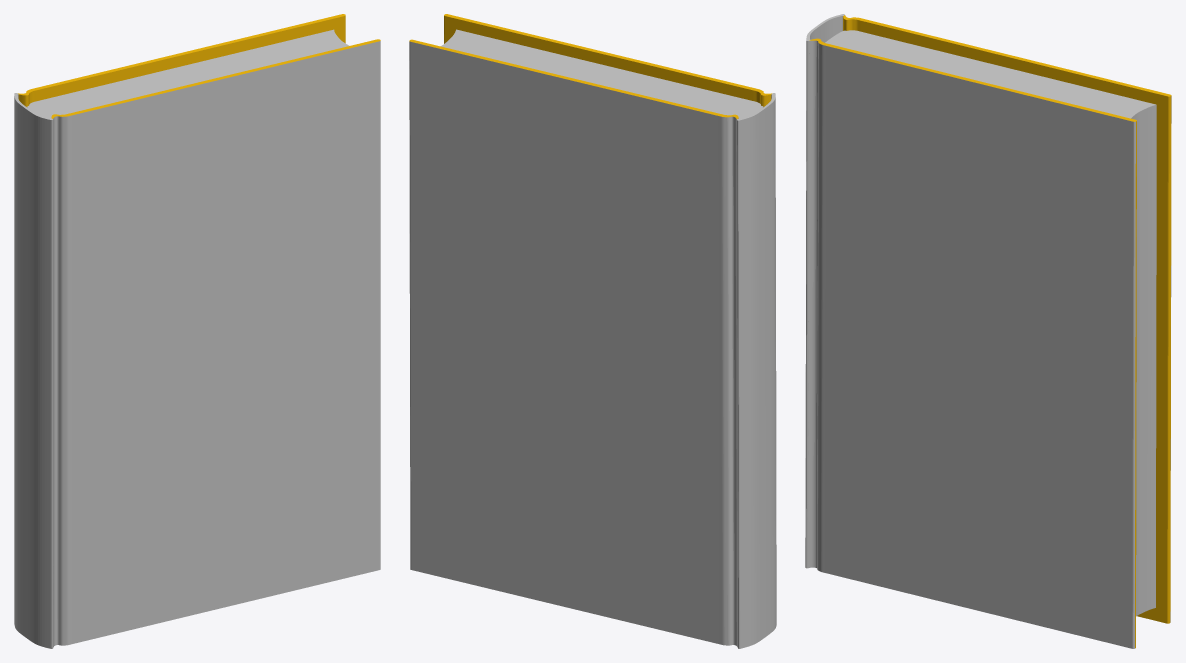
The model's file is Paisha no Vyavhar-Granth.obj.
3 renders of one model, left to right at view 1: azimuth 30°, elevation 25°; view 2: azimuth 150°, elevation 25°; view 3: azimuth 330°, elevation 25°, orthographic.
Visible parts, largest first — view 1: polySurface2; view 2: polySurface2; view 3: polySurface2.
Boxes of the visible parts, bbox=[...] form: polySurface2: bbox=[14, 14, 380, 648]; polySurface2: bbox=[409, 14, 776, 648]; polySurface2: bbox=[805, 14, 1171, 648].
Size of the model in its own units: 16.1 by 24.1 by 3.13.
